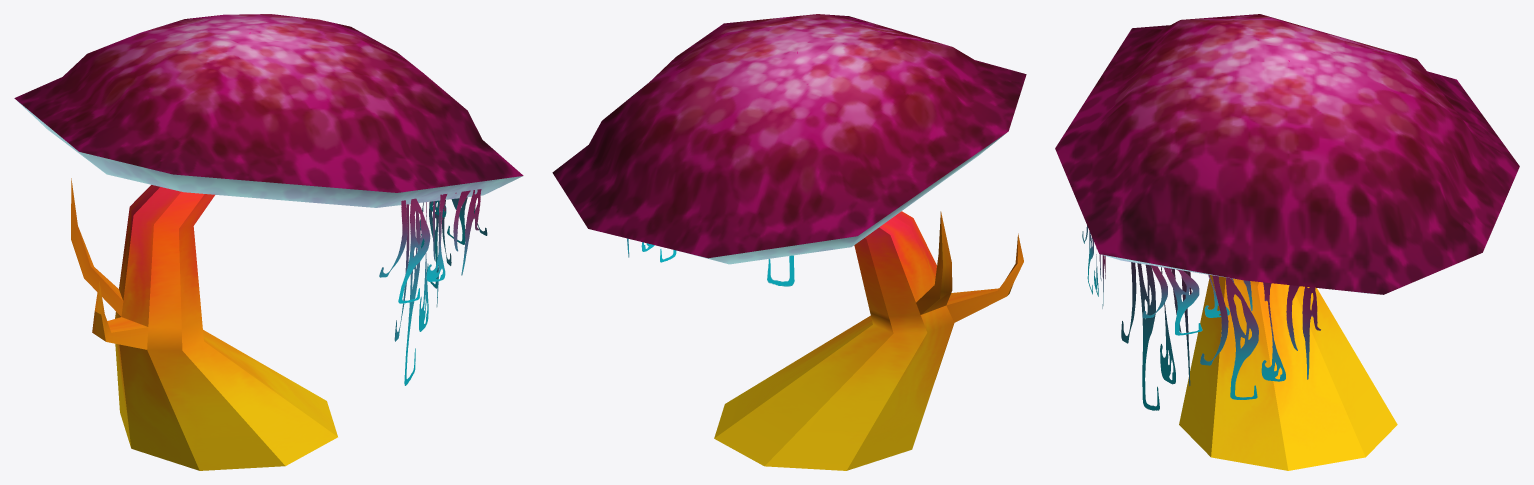
The model's file is space-mushroom.fbx.
3 renders of one model, left to right at view 1: azimuth 30°, elevation 25°; view 2: azimuth 150°, elevation 25°; view 3: azimuth 270°, elevation 25°, orthographic. The views are drawn at different scales.
Visible parts, largest first — view 1: pSphere1, pCylinder1, pPlane2, pPlane4, pPlane3; view 2: pSphere1, pCylinder1; view 3: pSphere1, pCylinder1, pPlane3, pPlane4, pPlane5, pPlane2.
Part boxes in pixels (x1,y1,x2,y2): pSphere1: [14, 14, 523, 207]; pCylinder1: [71, 32, 337, 470]; pPlane2: [379, 189, 481, 303]; pPlane4: [394, 200, 445, 385]; pPlane3: [409, 200, 451, 288]; pSphere1: [552, 14, 1026, 264]; pCylinder1: [714, 51, 1023, 470]; pSphere1: [1055, 14, 1519, 294]; pCylinder1: [1179, 60, 1397, 470]; pPlane3: [1200, 275, 1320, 399]; pPlane4: [1121, 262, 1191, 410]; pPlane5: [1142, 265, 1252, 335]; pPlane2: [1082, 225, 1105, 308].
Size of the model in its own units: 0.2794 by 0.2594 by 0.2878.
Materials: 2 (2 with a texture image).
